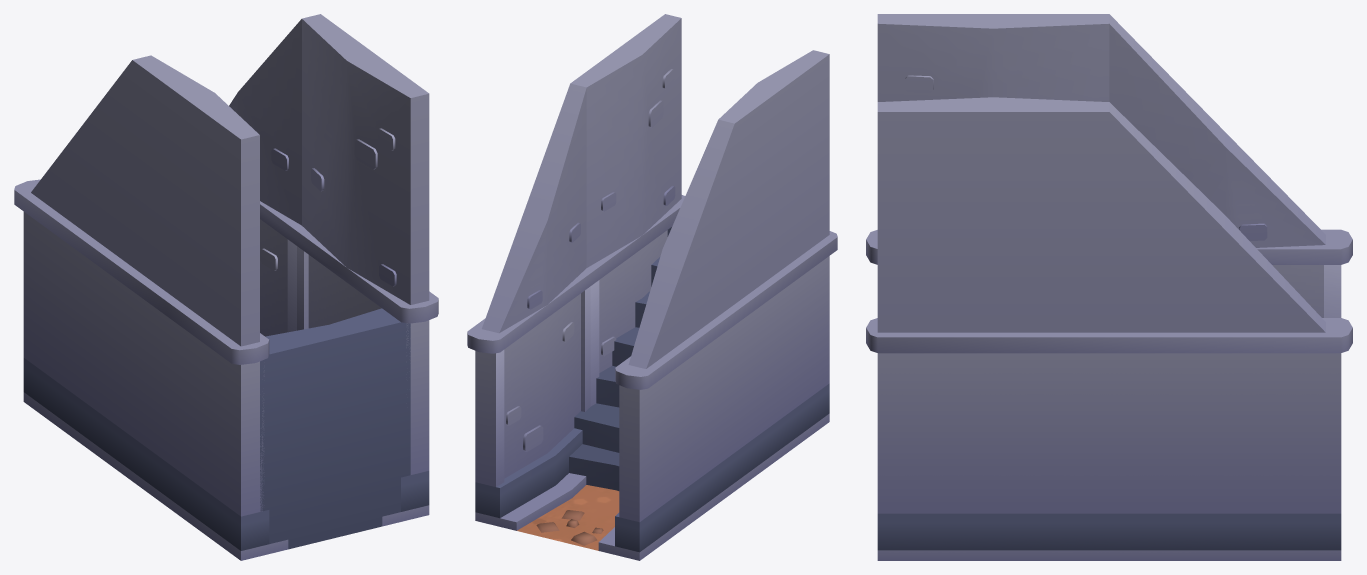
The model's file is stairs.glb.
3 views of the same model, side by side, from view 1: azimuth 30°, elevation 25°; view 2: azimuth 150°, elevation 25°; view 3: azimuth 270°, elevation 25° (orthographic). The views are drawn at different scales.
Parts seen in each view (by area): view 1: stairs; view 2: stairs; view 3: stairs.
Part boxes in pixels (x1,y1,x2,y2): stairs: [14, 14, 438, 560]; stairs: [467, 14, 837, 560]; stairs: [866, 14, 1352, 560].
Bounding box in the file's own units: 4.4 × 8.55 × 8.4.
Materials: 1 (1 with a texture image).
